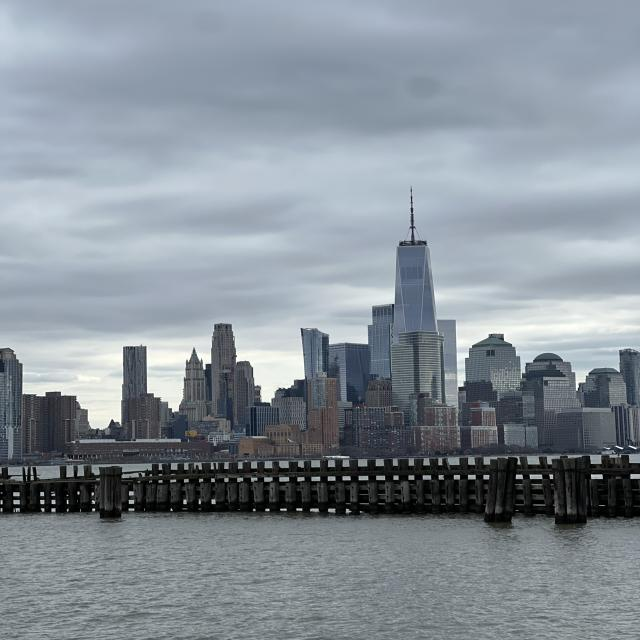WTC: (391, 185, 438, 320)
